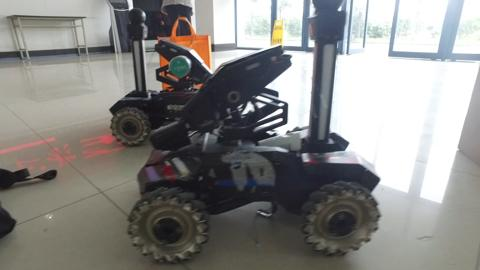chariot: (125, 1, 393, 266), (104, 6, 207, 144)
